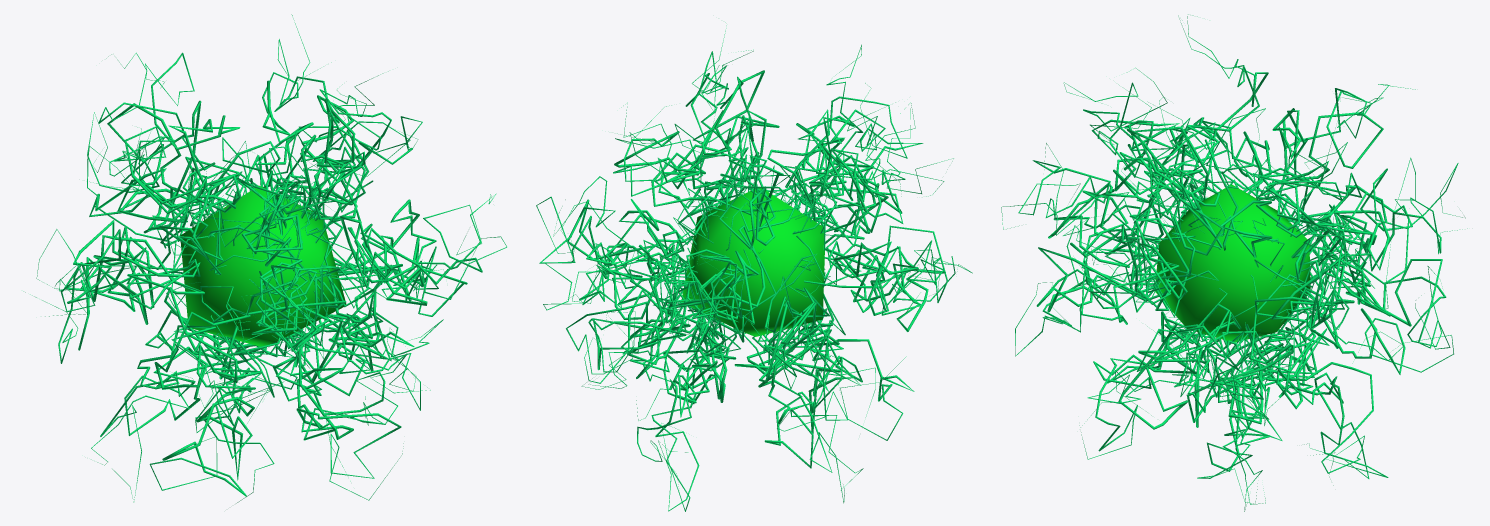
File: Plasma.fbx
3 views of the same model, side by side, from view 1: azimuth 30°, elevation 25°; view 2: azimuth 150°, elevation 25°; view 3: azimuth 270°, elevation 25° (orthographic). The views are drawn at different scales.
Parts seen in each view (by area): view 1: Icosphere; view 2: Icosphere; view 3: Icosphere.
Part boxes in pixels (bbox=[...]): Icosphere: bbox=[23, 14, 506, 503]; Icosphere: bbox=[536, 22, 972, 511]; Icosphere: bbox=[1001, 14, 1467, 511].
Bounding box in the file's own units: 596 × 575 × 593.
